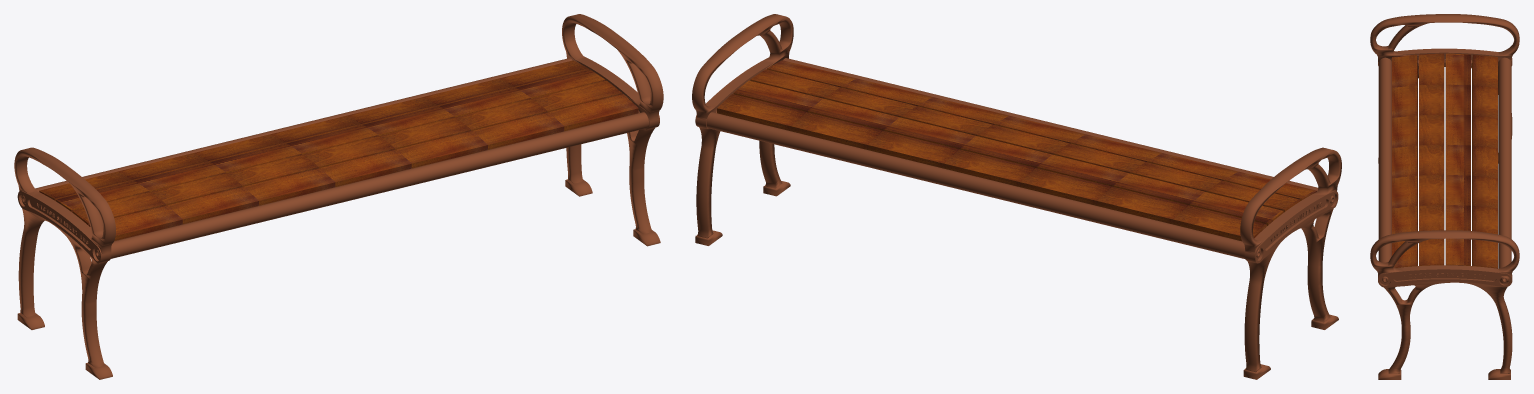
3 views of the same model, side by side, from view 1: azimuth 30°, elevation 25°; view 2: azimuth 150°, elevation 25°; view 3: azimuth 270°, elevation 25° (orthographic). The views are drawn at different scales.
Visible parts, largest first — view 1: mesh73_mesh73-geometry, mesh6_mesh6-geometry, mesh72_mesh72-geometry, mesh110_mesh110-geometry, mesh71_mesh71-geometry, mesh70_mesh70-geometry, mesh111_mesh111-geometry, mesh1_mesh1-geometry; view 2: mesh70_mesh70-geometry, mesh71_mesh71-geometry, mesh1_mesh1-geometry, mesh110_mesh110-geometry, mesh72_mesh72-geometry, mesh73_mesh73-geometry, mesh111_mesh111-geometry, mesh6_mesh6-geometry; view 3: mesh111_mesh111-geometry, mesh70_mesh70-geometry, mesh71_mesh71-geometry, mesh72_mesh72-geometry, mesh73_mesh73-geometry, mesh110_mesh110-geometry, mesh1_mesh1-geometry, mesh6_mesh6-geometry, mesh88_mesh88-geometry, mesh85_mesh85-geometry.
Boxes of the visible parts, x1,y1,x2,y2 form: mesh73_mesh73-geometry: (89, 94, 638, 240); mesh6_mesh6-geometry: (111, 112, 648, 258); mesh72_mesh72-geometry: (72, 80, 621, 225); mesh110_mesh110-geometry: (14, 147, 115, 367); mesh71_mesh71-geometry: (55, 69, 605, 212); mesh70_mesh70-geometry: (39, 60, 588, 200); mesh111_mesh111-geometry: (562, 14, 663, 234); mesh1_mesh1-geometry: (35, 58, 572, 191); mesh70_mesh70-geometry: (717, 94, 1266, 241); mesh71_mesh71-geometry: (733, 80, 1283, 225); mesh1_mesh1-geometry: (706, 112, 1245, 258); mesh110_mesh110-geometry: (1240, 147, 1341, 372); mesh72_mesh72-geometry: (750, 69, 1300, 212); mesh73_mesh73-geometry: (767, 60, 1316, 200); mesh111_mesh111-geometry: (692, 14, 793, 238); mesh6_mesh6-geometry: (783, 58, 1318, 190); mesh111_mesh111-geometry: (1370, 230, 1519, 373); mesh70_mesh70-geometry: (1472, 54, 1497, 268); mesh71_mesh71-geometry: (1445, 53, 1470, 265); mesh72_mesh72-geometry: (1419, 53, 1444, 265); mesh73_mesh73-geometry: (1392, 54, 1417, 267); mesh110_mesh110-geometry: (1370, 14, 1519, 138); mesh1_mesh1-geometry: (1498, 57, 1511, 268); mesh6_mesh6-geometry: (1378, 57, 1391, 262); mesh88_mesh88-geometry: (1378, 369, 1401, 379); mesh85_mesh85-geometry: (1488, 369, 1510, 379).
Size of the model in its own units: 0.9228 by 0.2821 by 0.2625.
